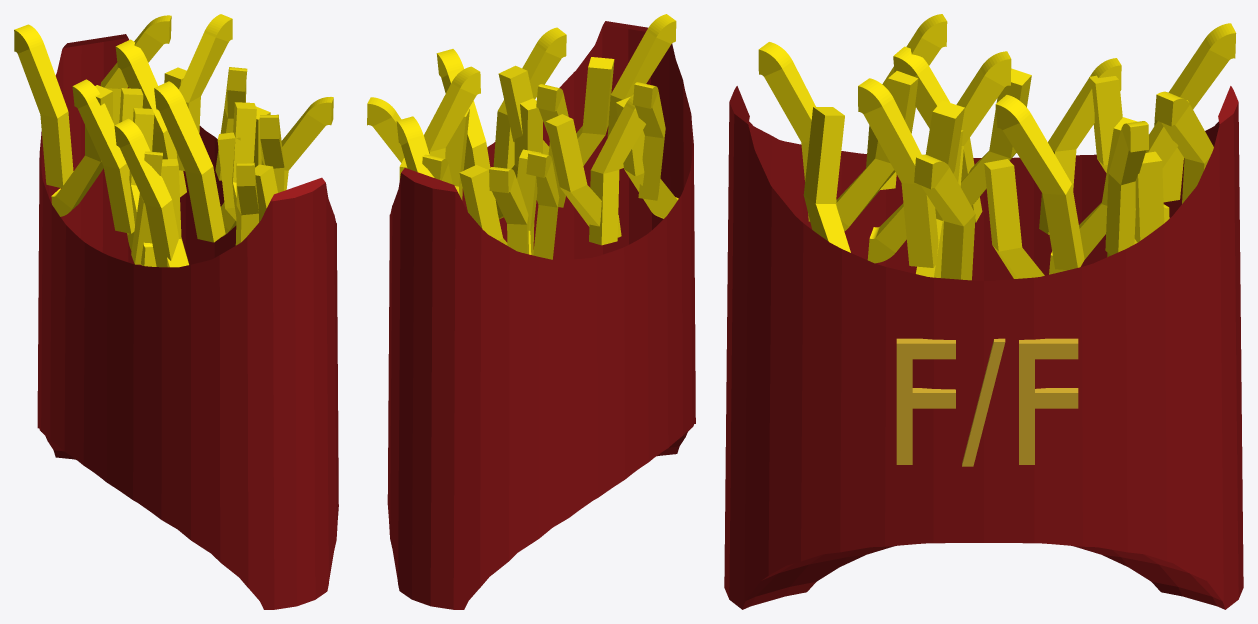
File: FFfriescomplete.fbx
The picture shows the model from 3 angles, left to right: view 1: azimuth 30°, elevation 25°; view 2: azimuth 150°, elevation 25°; view 3: azimuth 270°, elevation 25°; orthographic projection. The views are drawn at different scales.
Visible parts, largest first — view 1: Sphere, Cube.004, Cube.006, Cube.008, Cube.009, Cube.010, Cube.005, Cube.024, Cube.002, Cube.001, Cube.007, Cube.018 (+9 smaller); view 2: Sphere, Cube.012, Cube.021, Cube.003, Cube.007, Cube.008, Cube.014, Cube.011, Cube.009, Cube.006, Cube.017, Cube.002 (+9 smaller); view 3: Sphere, Text, Cube.011, Cube.003, Cube.014, Cube.002, Cube.010, Cube.006, Cube.023, Cube.018, Cube.013, Cube.007 (+11 smaller).
Boxes of the visible parts, <box> form: Sphere: <box>37,34,338,609</box>; Cube.004: <box>154,81,225,242</box>; Cube.006: <box>14,24,73,187</box>; Cube.008: <box>114,118,178,267</box>; Cube.009: <box>72,79,134,233</box>; Cube.010: <box>176,14,232,170</box>; Cube.005: <box>115,39,186,197</box>; Cube.024: <box>51,85,113,216</box>; Cube.002: <box>281,97,333,190</box>; Cube.001: <box>100,15,171,125</box>; Cube.007: <box>235,162,258,245</box>; Cube.018: <box>232,102,256,216</box>; Sphere: <box>387,21,695,609</box>; Cube.012: <box>589,94,645,245</box>; Cube.021: <box>545,114,621,237</box>; Cube.003: <box>493,27,566,168</box>; Cube.007: <box>607,14,676,168</box>; Cube.008: <box>632,82,665,200</box>; Cube.014: <box>576,57,614,165</box>; Cube.011: <box>424,66,480,158</box>; Cube.009: <box>526,151,559,259</box>; Cube.006: <box>489,167,528,254</box>; Cube.017: <box>459,165,507,245</box>; Cube.002: <box>436,49,497,211</box>; Sphere: <box>724,86,1243,609</box>; Text: <box>896,338,1078,466</box>; Cube.011: <box>995,95,1084,269</box>; Cube.003: <box>858,78,938,267</box>; Cube.014: <box>803,107,850,252</box>; Cube.002: <box>914,154,975,280</box>; Cube.010: <box>1105,121,1148,255</box>; Cube.006: <box>1154,23,1236,202</box>; Cube.023: <box>984,159,1044,278</box>; Cube.018: <box>867,100,964,263</box>; Cube.013: <box>836,71,918,231</box>; Cube.007: <box>758,42,837,221</box>.
Size of the model in its own units: 101 by 185 by 166.
